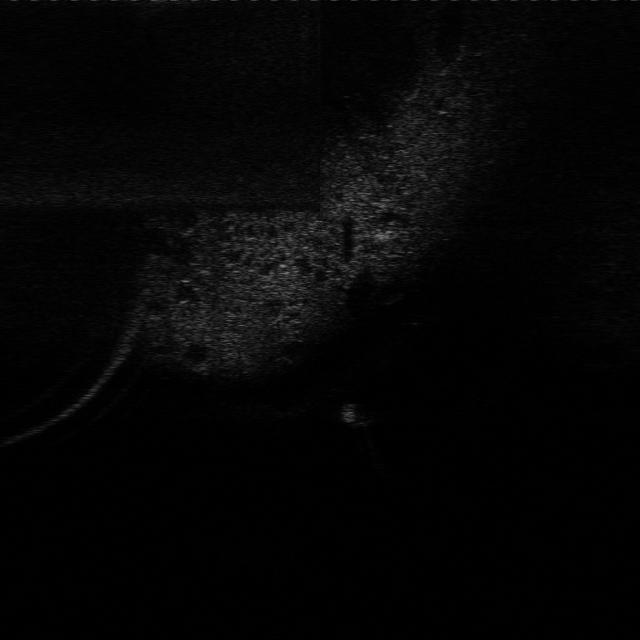cylinder: (334, 397, 364, 432)
